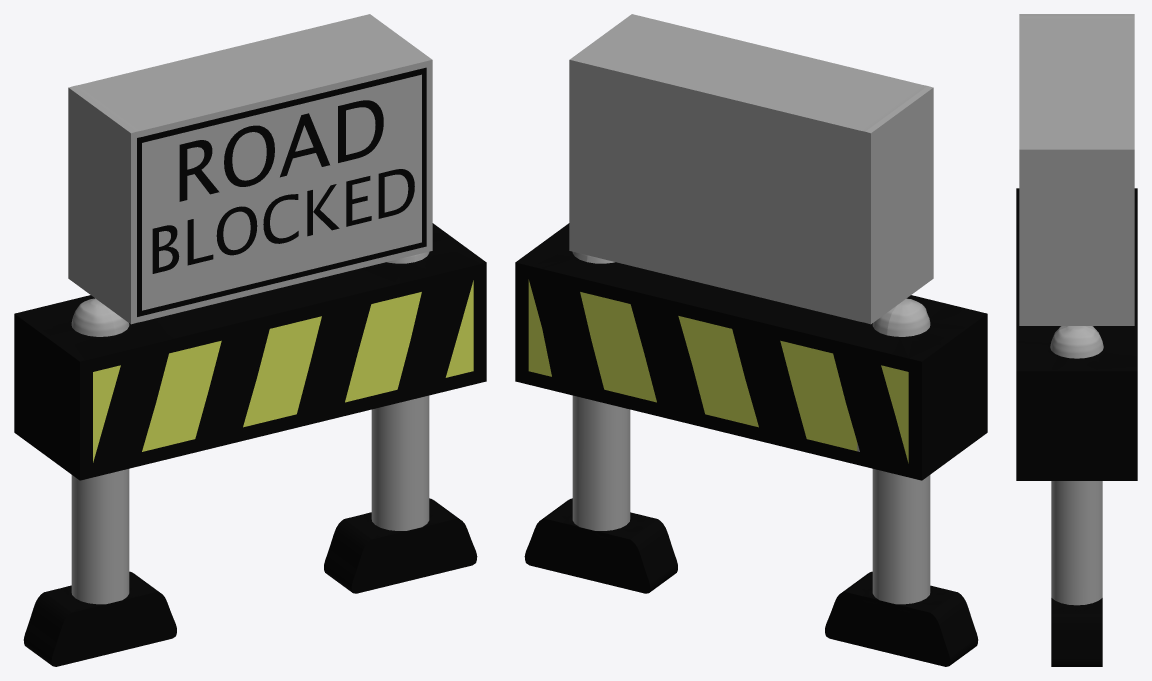
The model's file is Road_Blocker_Higher.fbx.
3 views of the same model, side by side, from view 1: azimuth 30°, elevation 25°; view 2: azimuth 150°, elevation 25°; view 3: azimuth 270°, elevation 25° (orthographic). The views are drawn at different scales.
Visible parts, largest first — view 1: Road_Block_Higher; view 2: Road_Block_Higher; view 3: Road_Block_Higher.
Boxes of the visible parts, bbox=[...] form: Road_Block_Higher: bbox=[14, 14, 486, 666]; Road_Block_Higher: bbox=[515, 14, 987, 666]; Road_Block_Higher: bbox=[1016, 14, 1137, 666].
Bounding box in the file's own units: 294 × 351 × 78.43.
